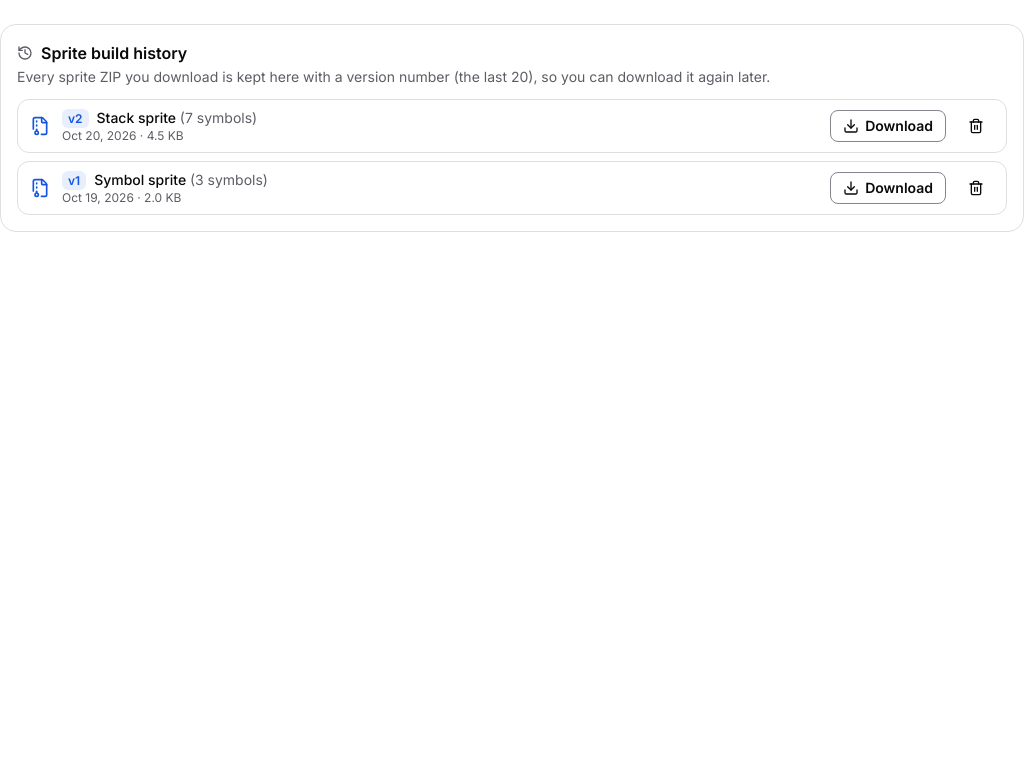
deleting › asks first, then deletes and reloads
The image size is (1024, 768).
Click the button named "Delete sprite v1 from": (976, 188) x1=958 y1=170 x2=994 y2=206
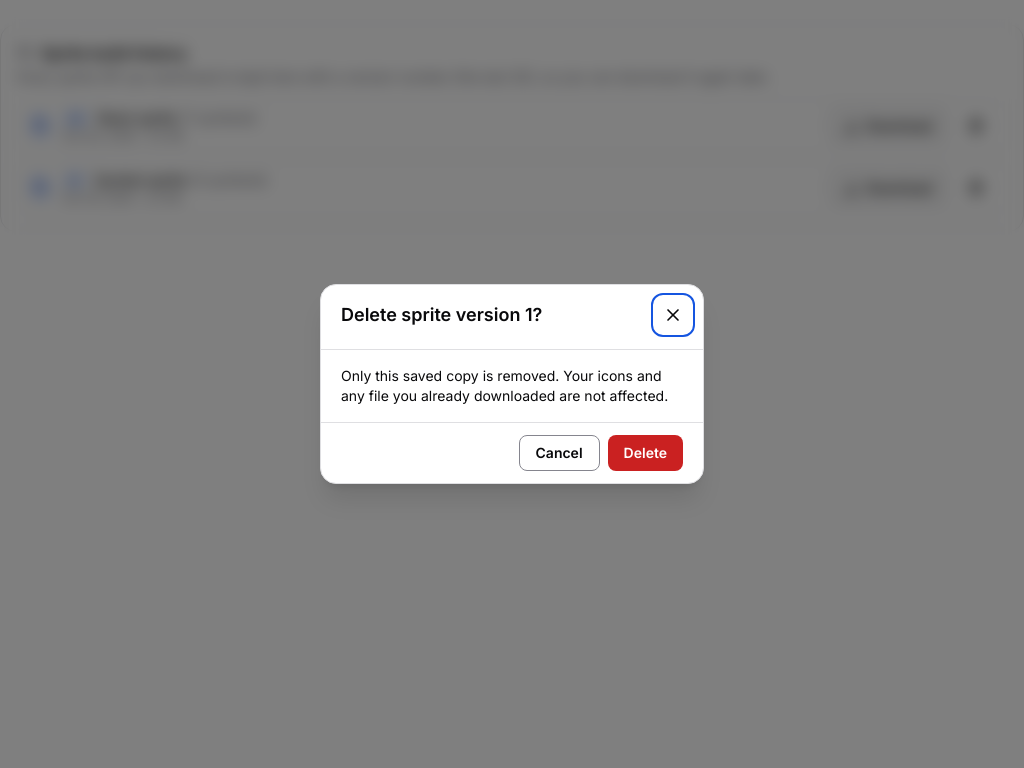
Click the button "Delete": (645, 453) x1=608 y1=435 x2=683 y2=471
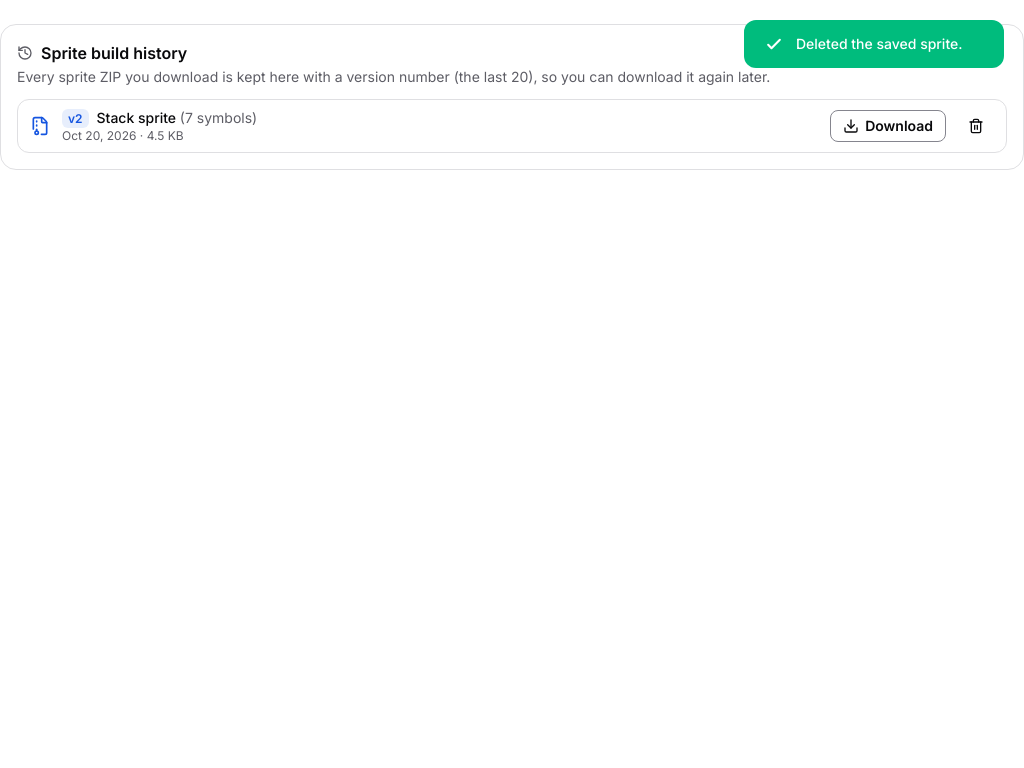
Now the number of list items is 1, box x1=17 y1=99 x2=1007 y2=153
